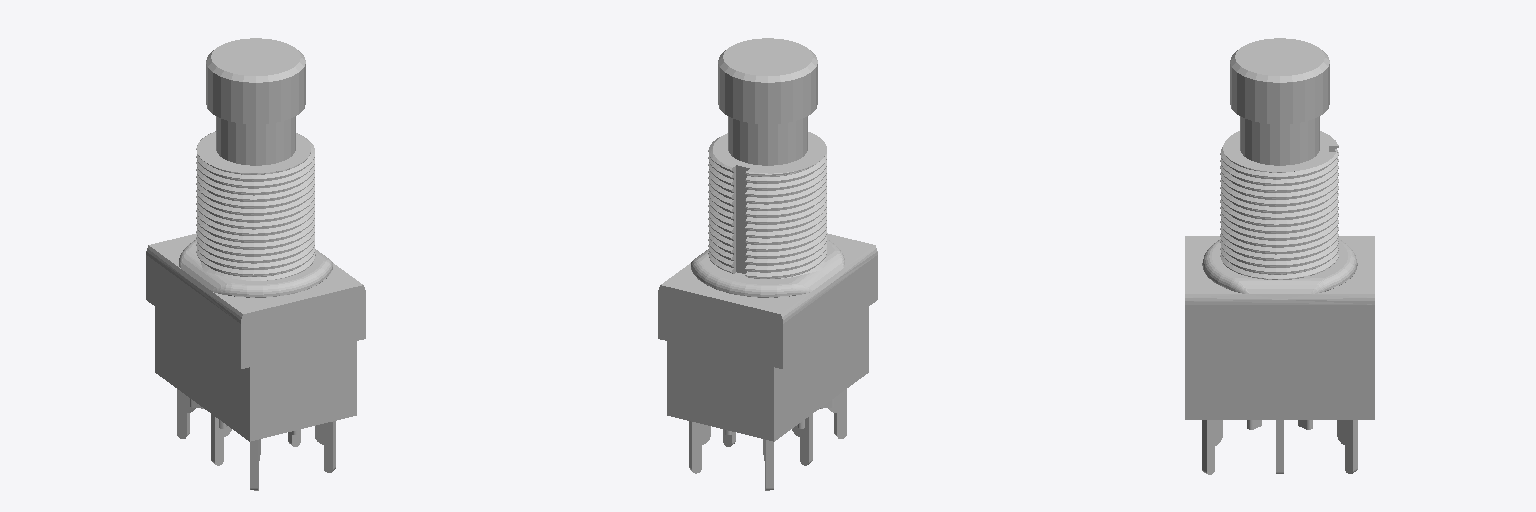
3 renders of one model, left to right at view 1: azimuth 30°, elevation 25°; view 2: azimuth 150°, elevation 25°; view 3: azimuth 270°, elevation 25°, orthographic.
Visible parts, largest first — view 1: Body1, Body6, Body5, Body4; view 2: Body1, Body7, Body5, Body3; view 3: Body1, Body6, Body7.
Boxes of the visible parts, x1=… form: Body1: x1=146, y1=38, x2=365, y2=441; Body6: x1=315, y1=421, x2=335, y2=472; Body5: x1=211, y1=414, x2=231, y2=465; Body4: x1=177, y1=389, x2=195, y2=438; Body1: x1=658, y1=38, x2=877, y2=441; Body7: x1=689, y1=421, x2=710, y2=473; Body5: x1=792, y1=414, x2=812, y2=465; Body3: x1=828, y1=389, x2=846, y2=438; Body1: x1=1185, y1=38, x2=1374, y2=429; Body6: x1=1202, y1=420, x2=1222, y2=474; Body7: x1=1337, y1=420, x2=1357, y2=473.
Bounding box in the file's own units: 1.44 × 4.38 × 1.89.